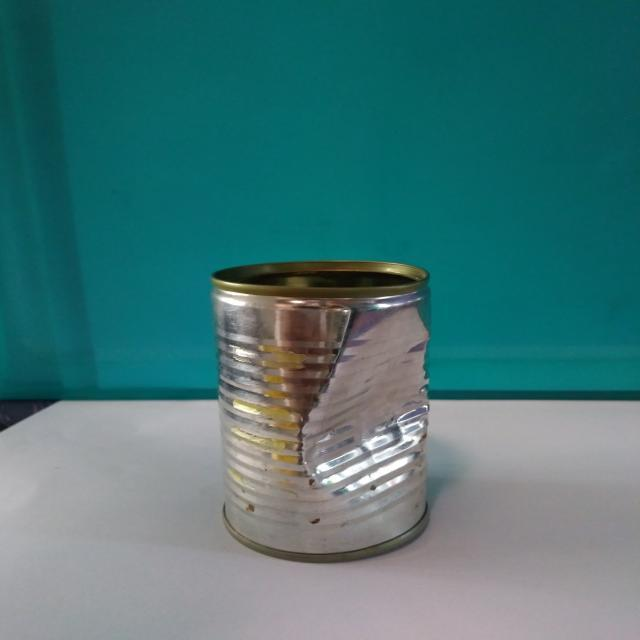metal-can: (208, 258, 436, 567)
